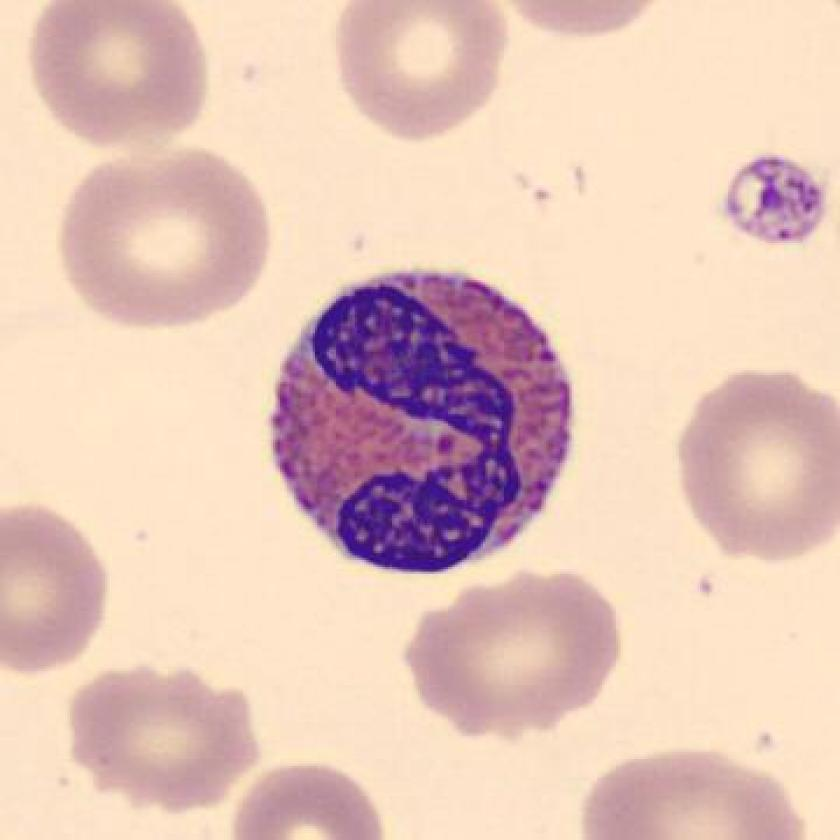eosinophil: (256, 253, 585, 584)
